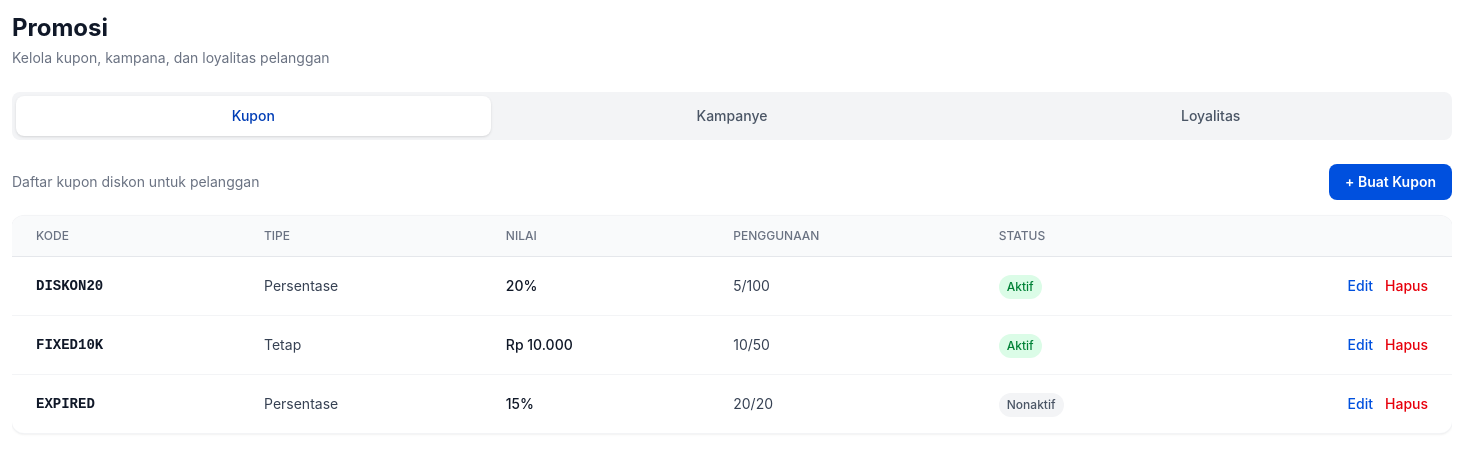
Scenario: PromotionsPage › Campaigns tab › switches to campaigns tab and shows campaign list
Check: the text "DISKON20" is shown, box top-left (12, 256), bottom-right (240, 316)
Click the button "Kampanye" at (732, 116), box top-left (495, 96), bottom-right (969, 136)
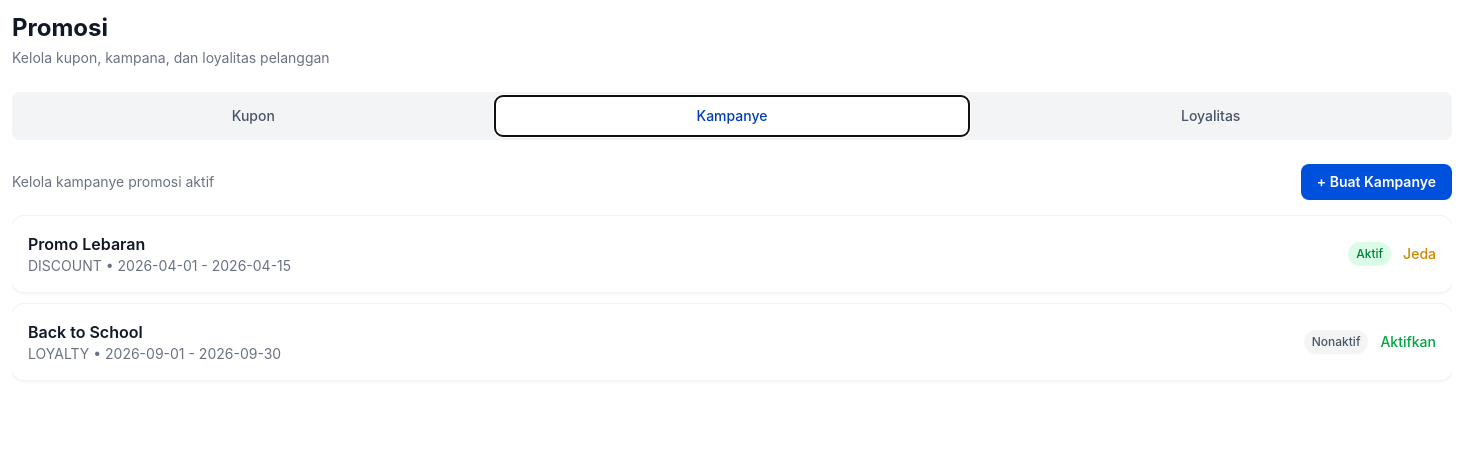
Check: the text "Promo Lebaran" is shown, box top-left (28, 234), bottom-right (145, 254)
Check: the text "Back to School" is shown, box top-left (28, 322), bottom-right (143, 342)
